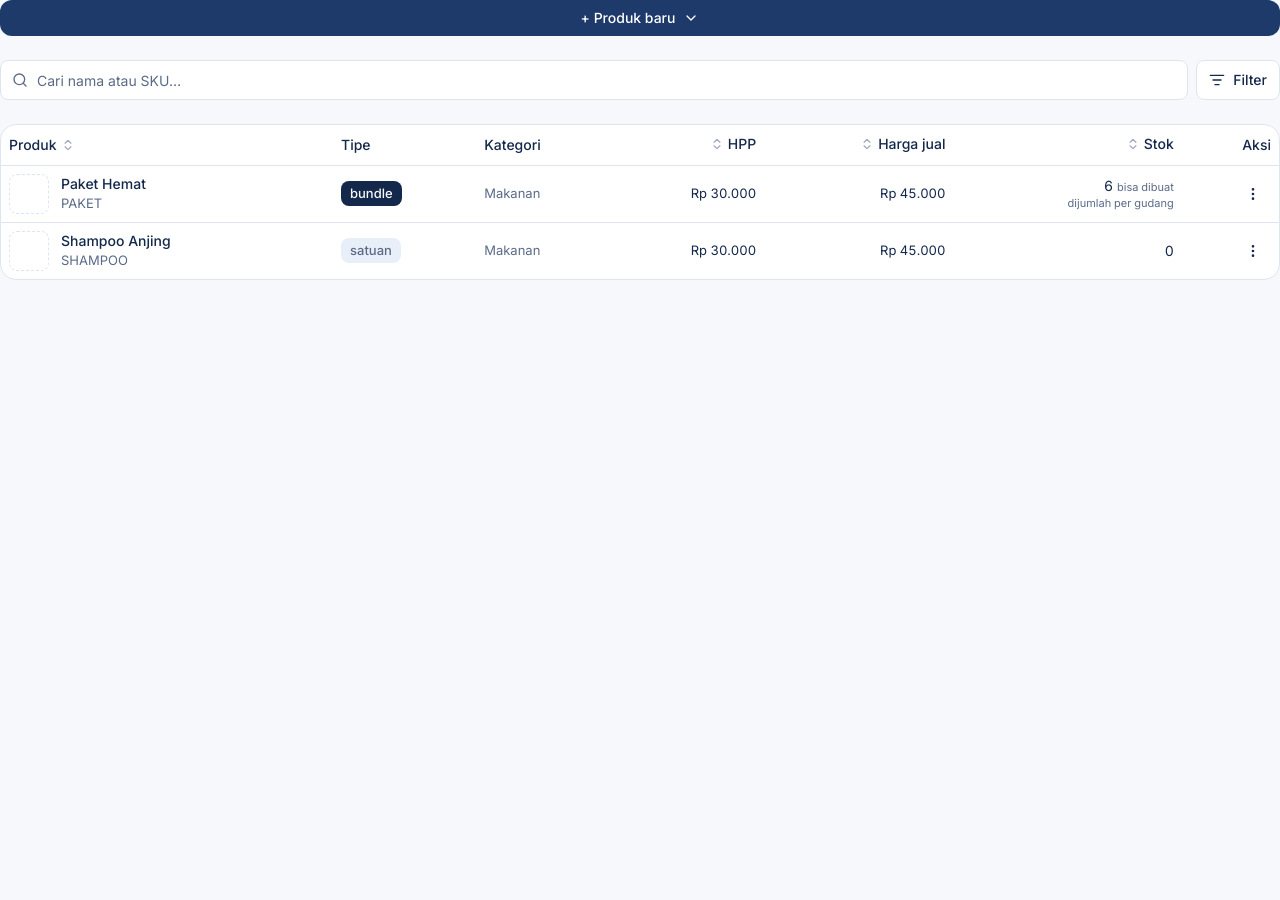
Test: ProductsScreen › labels a bundle's stock as what can be BUILT, and names the cap
Expected: the text "bisa dibuat" is shown, [1117,180,1174,194]
Expected: the text "dijumlah per gudang" is shown, [1068,196,1174,210]
Click the button "Filter".
click(1238, 80)  # box [1196,60,1279,100]
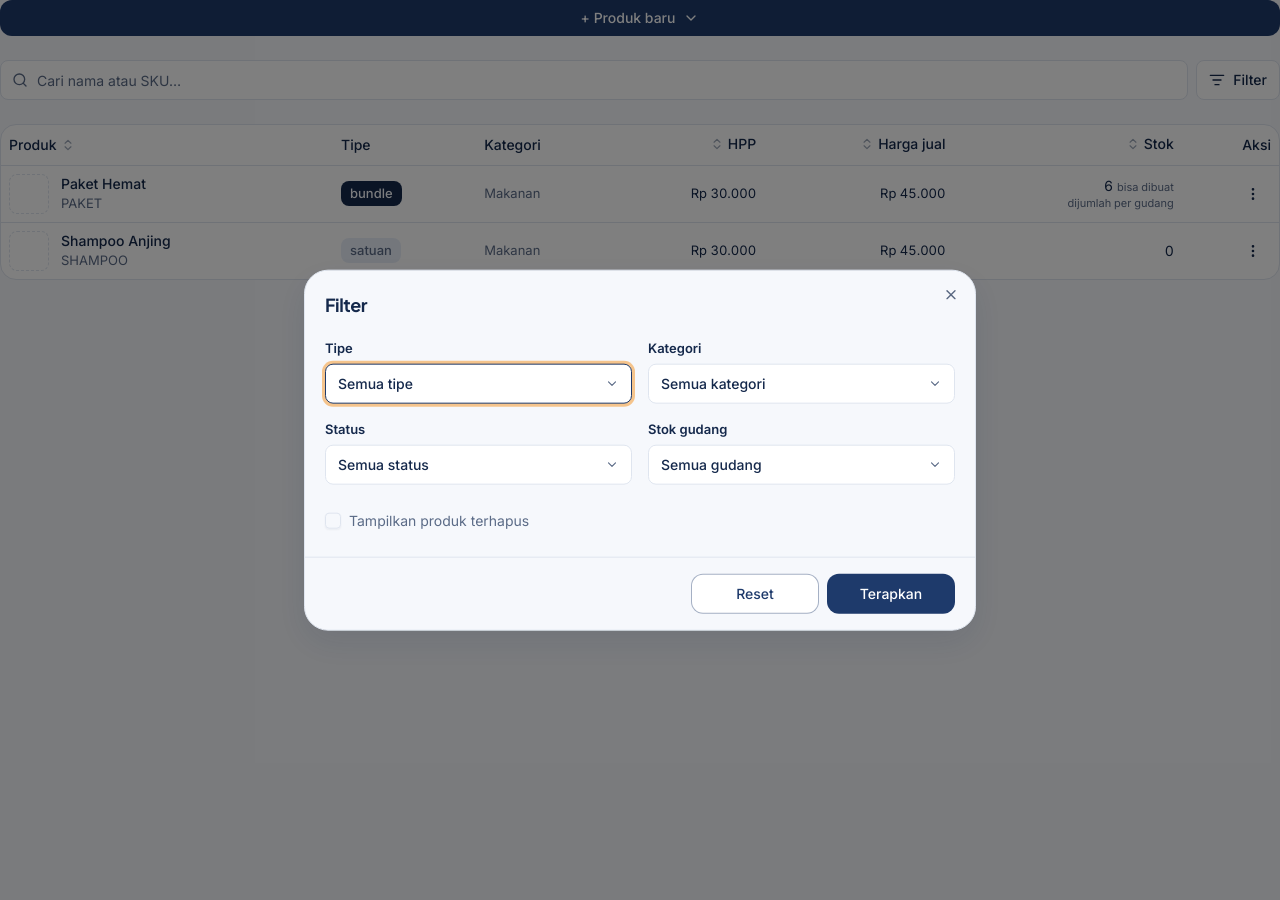
Click the button with aria-label "Stok gudang".
click(711, 464)  # box [648,444,955,484]
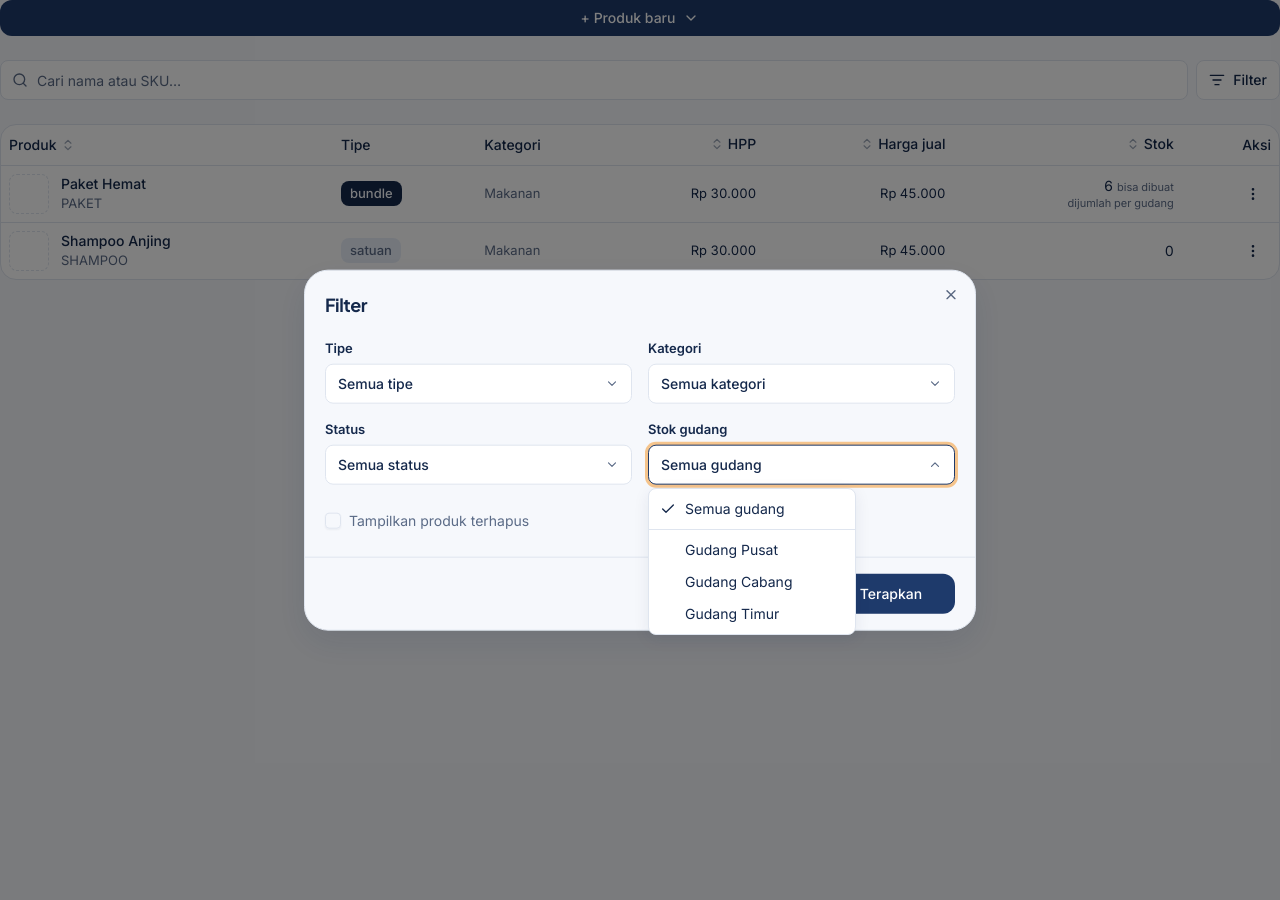
Click the menu item "Gudang Pusat".
click(732, 550)  # box [685,541,778,558]
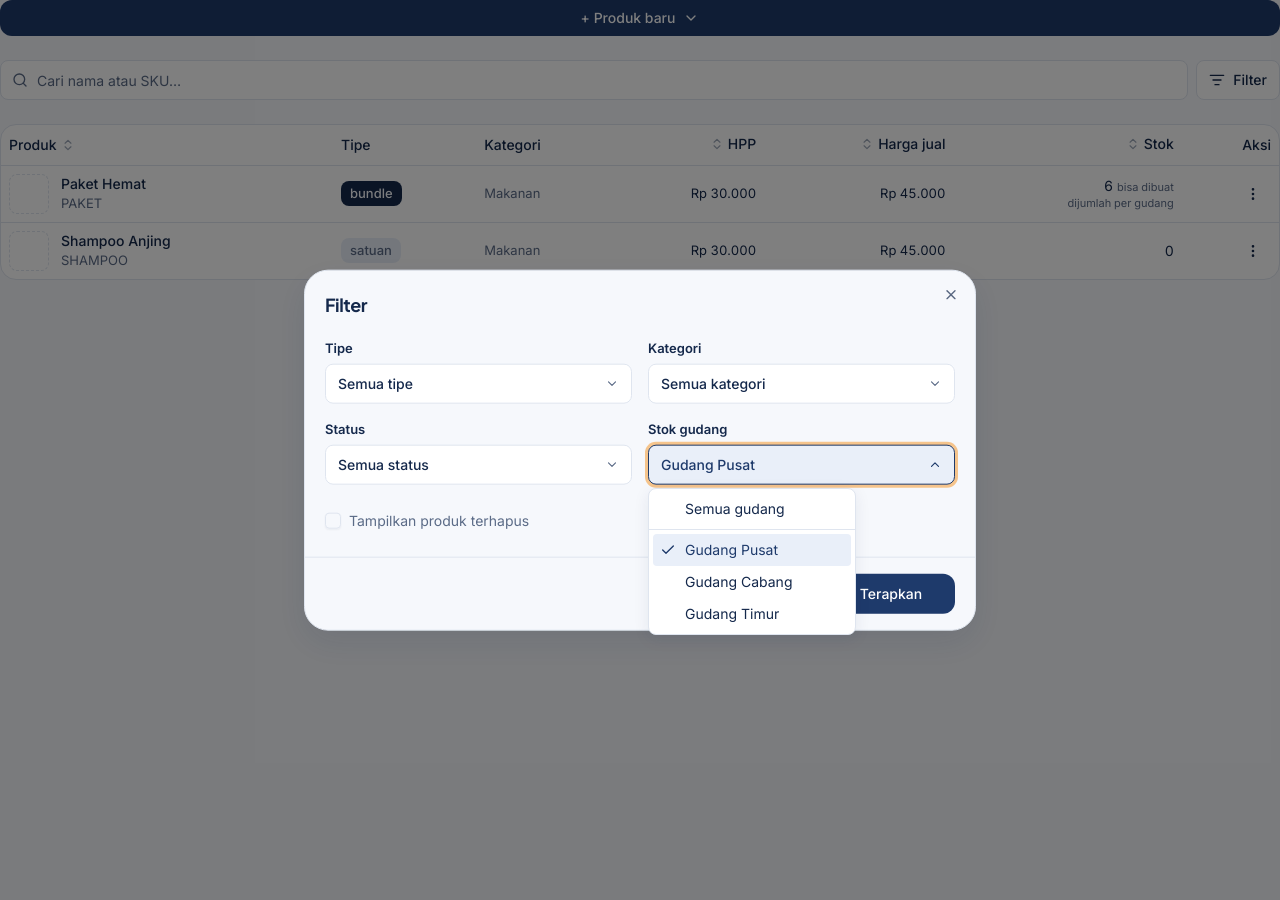
Press Escape
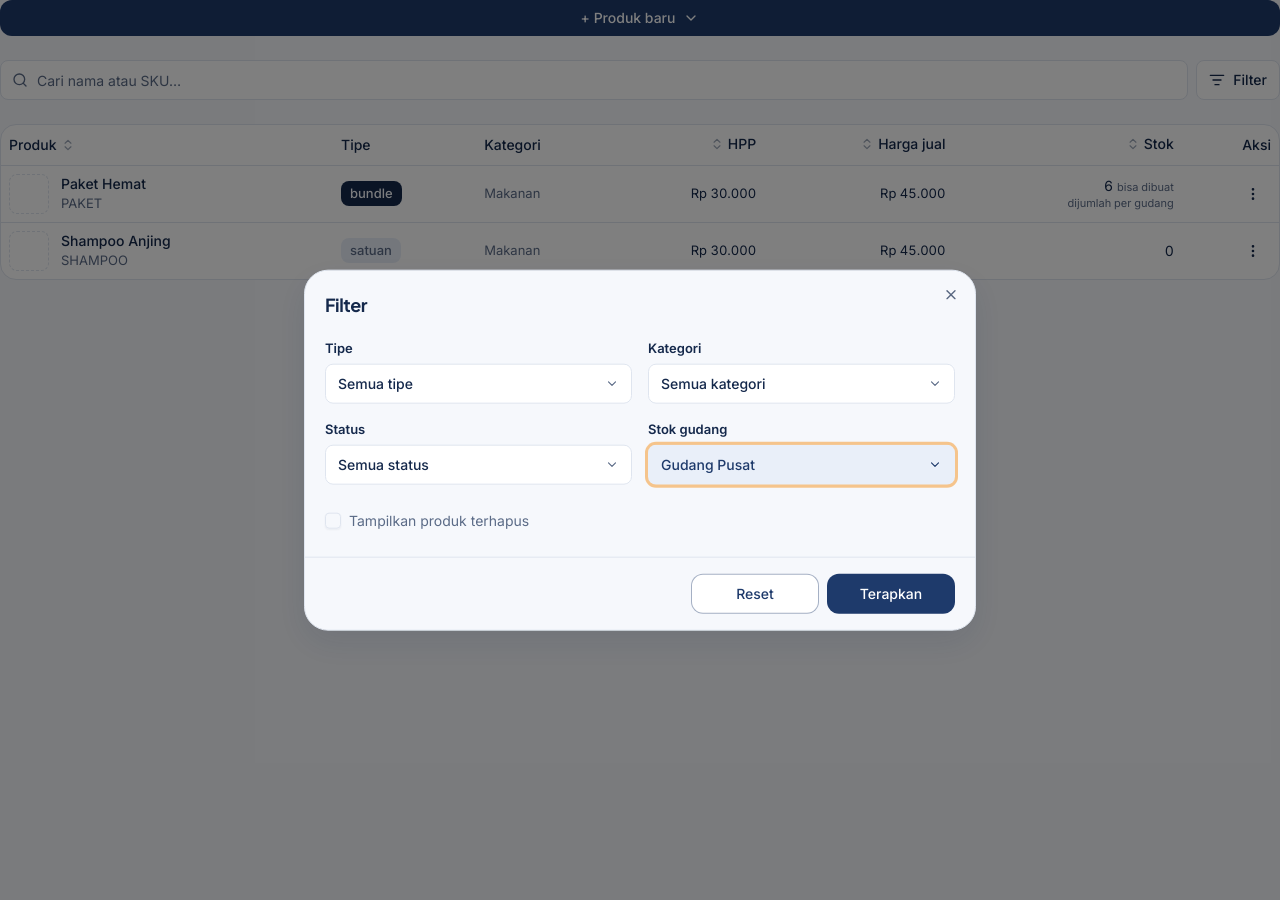
Click the button "Terapkan".
click(891, 593)  # box [827,573,955,613]
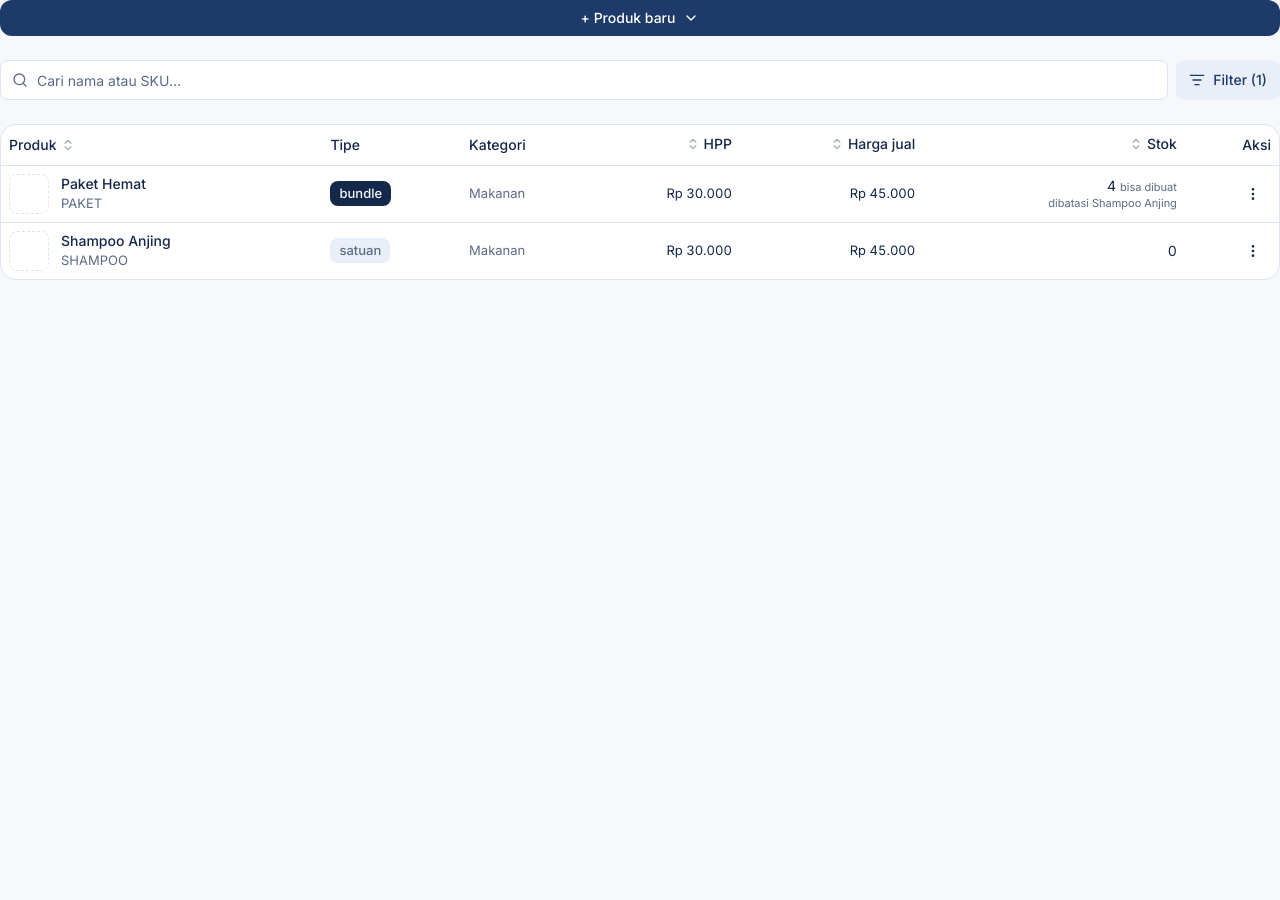
Result: the text "dibatasi Shampoo Anjing" is shown at [1048,196,1177,210]
Result: the text "dijumlah per gudang" is gone
